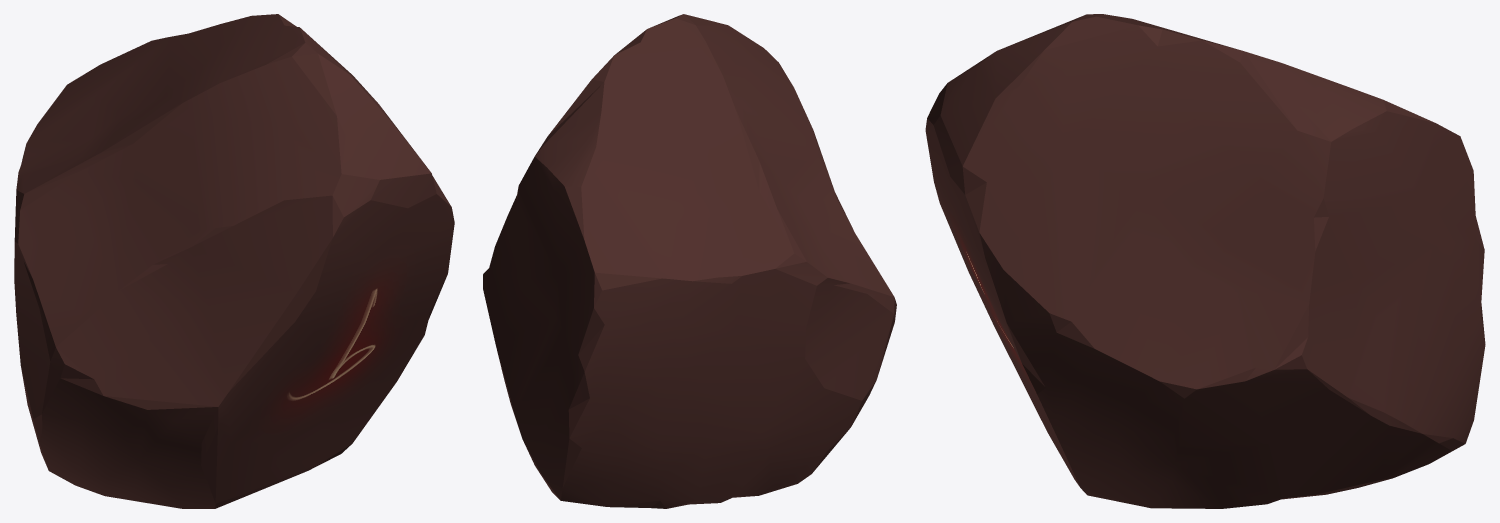
Rendered from Rock_5.FBX.
The picture shows the model from 3 angles, left to right: view 1: azimuth 30°, elevation 25°; view 2: azimuth 150°, elevation 25°; view 3: azimuth 270°, elevation 25°; orthographic projection. The views are drawn at different scales.
Visible parts, largest first — view 1: GeoSphere005; view 2: GeoSphere005; view 3: GeoSphere005.
Boxes of the visible parts, bbox=[...] form: GeoSphere005: bbox=[14, 14, 454, 508]; GeoSphere005: bbox=[483, 14, 896, 508]; GeoSphere005: bbox=[925, 14, 1485, 508].
Size of the model in its own units: 90.69 by 96.15 by 102.
